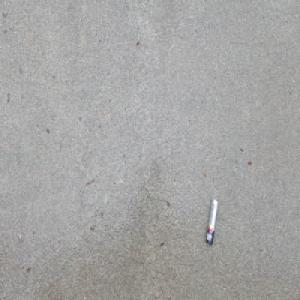Battery: (205, 197, 218, 246)
